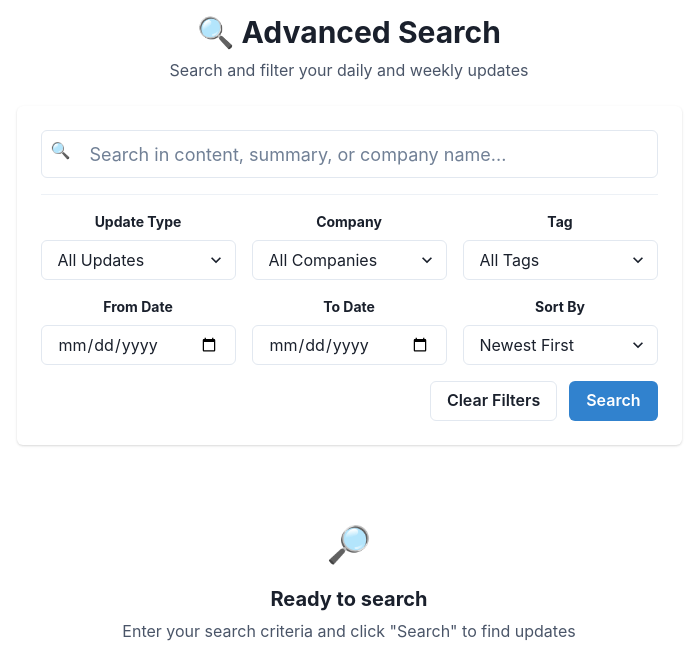
Search page › performs a search and renders matching results
Click the button "Search".
click(613, 401)  # box [569,381,658,421]
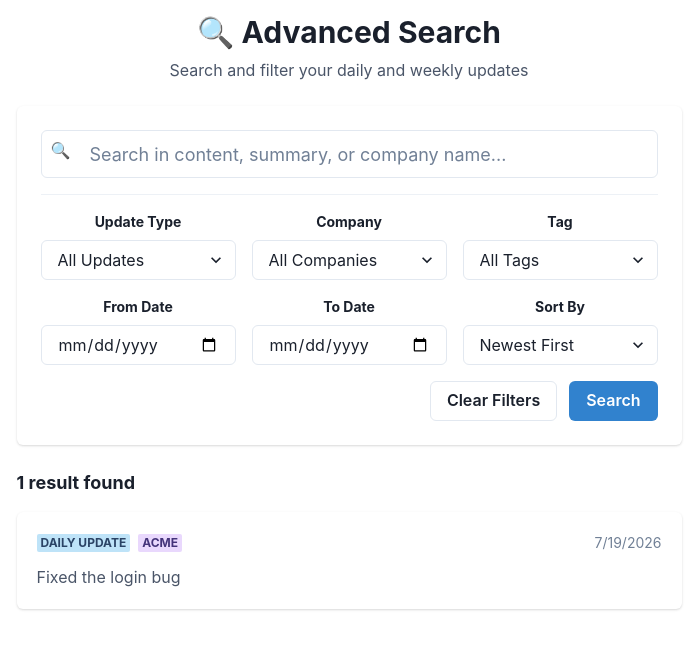
expect the text "1 result found" is shown: met, box [16,469,135,496]
expect the text "Fixed the login bug" is shown: met, box [36,565,180,589]
expect the text "Daily Update" is shown: met, box [36,534,130,552]
